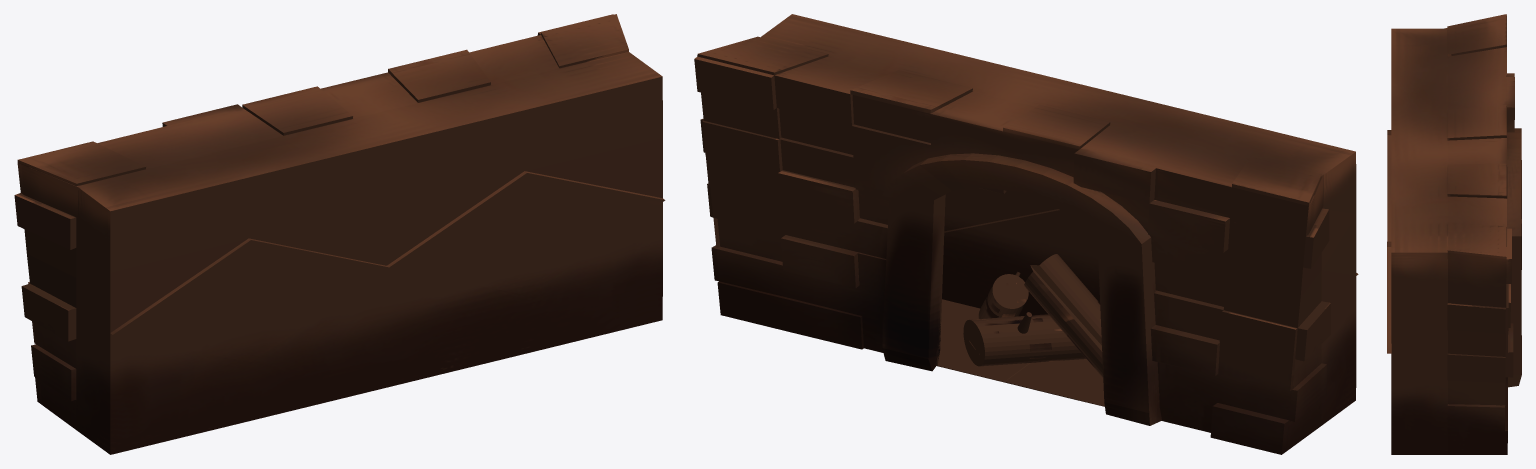
Rendered from FirePlace.fbx.
The picture shows the model from 3 angles, left to right: view 1: azimuth 30°, elevation 25°; view 2: azimuth 150°, elevation 25°; view 3: azimuth 270°, elevation 25°; orthographic projection. The views are drawn at different scales.
Parts seen in each view (by area): view 1: wood; view 2: wood; view 3: wood.
Part boxes in pixels (x1,y1,x2,y2): wood: (14, 14, 665, 454); wood: (694, 14, 1358, 454); wood: (1387, 14, 1521, 454).
Bounding box in the file's own units: 2334 × 938 × 544.
